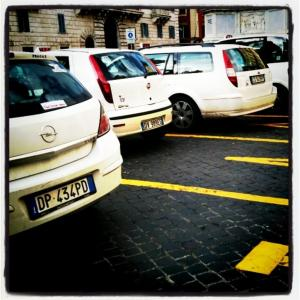Vehicle-registration-plate: (36, 179, 92, 213), (143, 118, 165, 132)
